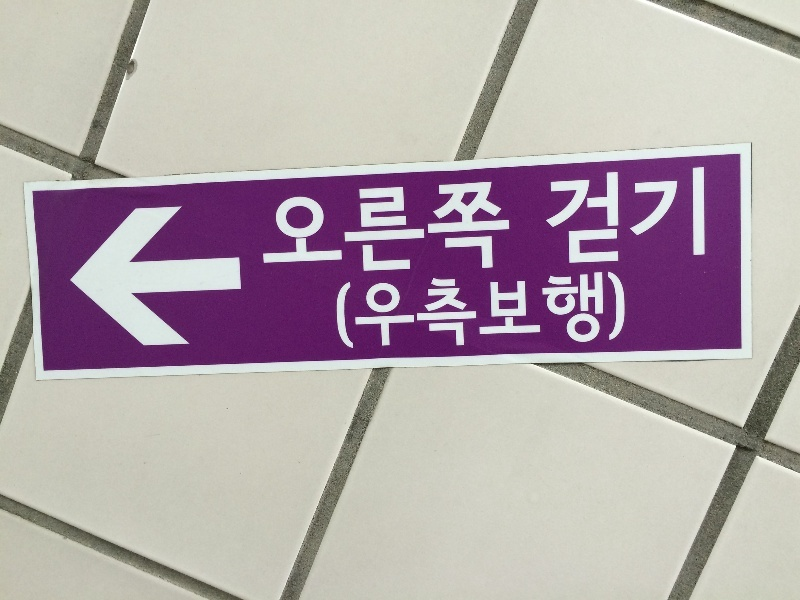text: (545, 165, 560, 268), (561, 165, 576, 268), (577, 165, 592, 268), (593, 165, 608, 268), (609, 165, 624, 268), (625, 165, 640, 268), (641, 165, 656, 268), (657, 165, 672, 268), (673, 165, 688, 268), (689, 165, 704, 268), (289, 181, 304, 277), (305, 181, 320, 277), (321, 181, 336, 277), (337, 181, 352, 277), (353, 181, 368, 277), (369, 181, 384, 277), (385, 181, 400, 277), (401, 181, 416, 277), (417, 181, 432, 277), (433, 181, 448, 277), (449, 181, 464, 277), (465, 181, 480, 277), (481, 181, 496, 277), (497, 181, 512, 277), (275, 181, 288, 277), (337, 271, 352, 353), (353, 271, 368, 353), (369, 271, 384, 353), (385, 271, 400, 353), (401, 271, 416, 353), (417, 271, 432, 353), (433, 271, 448, 353), (449, 271, 464, 353), (465, 271, 480, 353), (481, 271, 496, 353), (497, 271, 512, 353), (513, 271, 528, 353), (529, 271, 544, 353), (545, 271, 560, 353), (561, 271, 576, 353), (577, 271, 592, 353), (593, 271, 608, 353), (609, 271, 624, 353), (513, 181, 516, 277), (705, 165, 707, 268), (625, 271, 627, 353), (335, 271, 336, 353)
